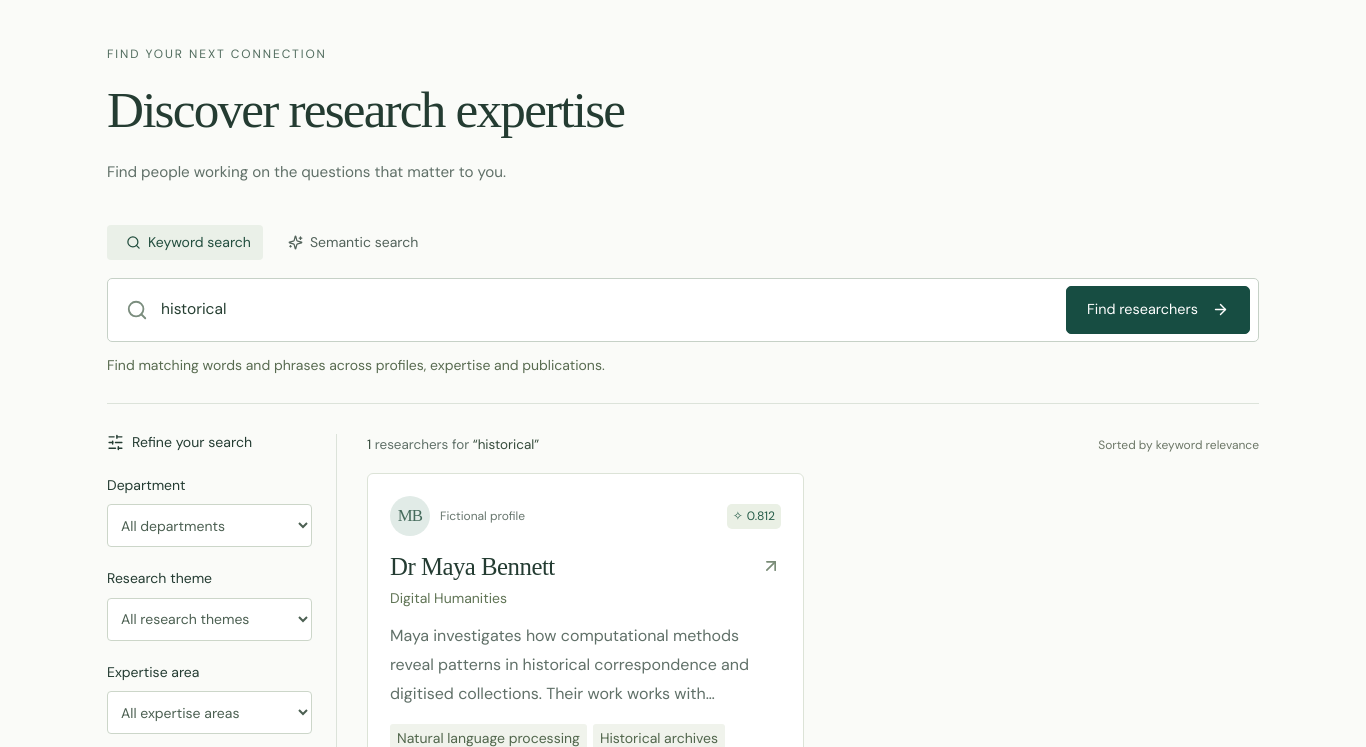
Test case: search discovery › keeps the query when switching to semantic search and explains scores
Click the radio button labelled "Semantic search".
click(353, 242)  # box [288,233,418,251]
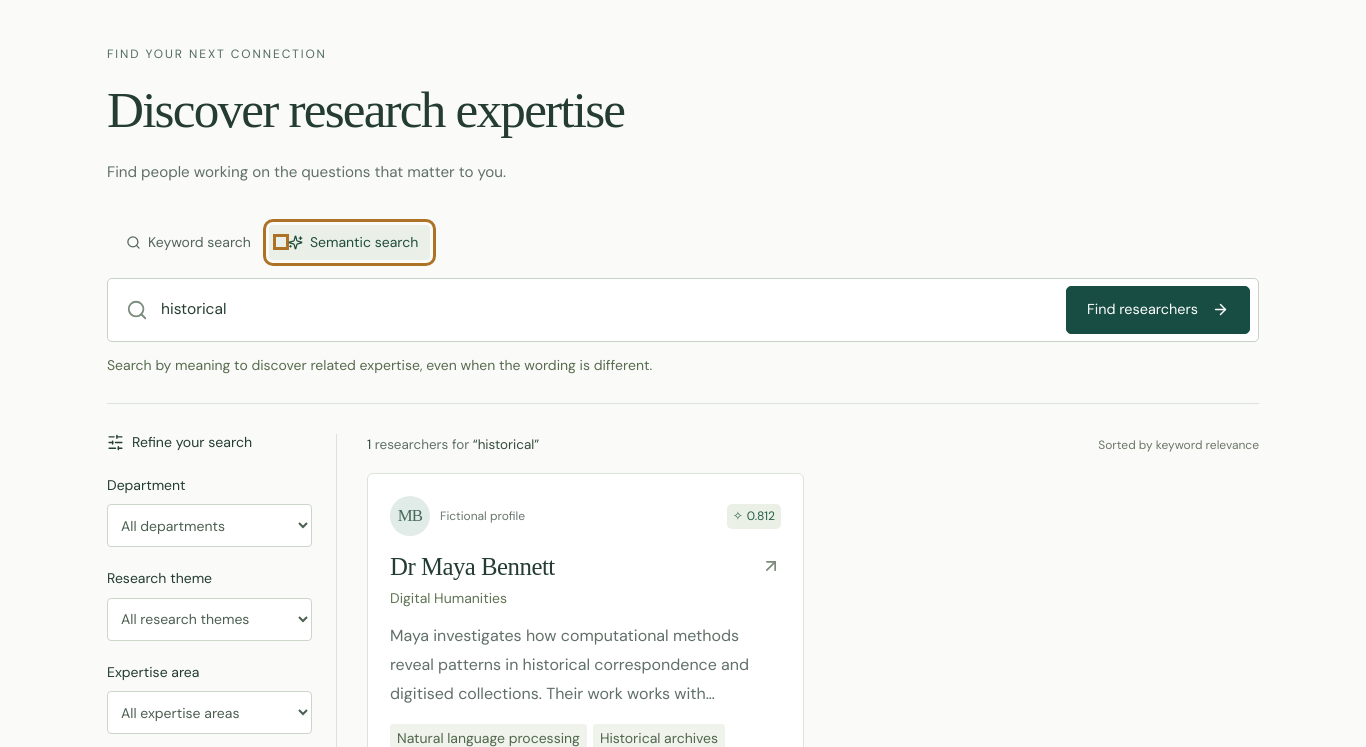
Click the button "Find researchers".
click(1158, 310)  # box [1066,286,1250,334]
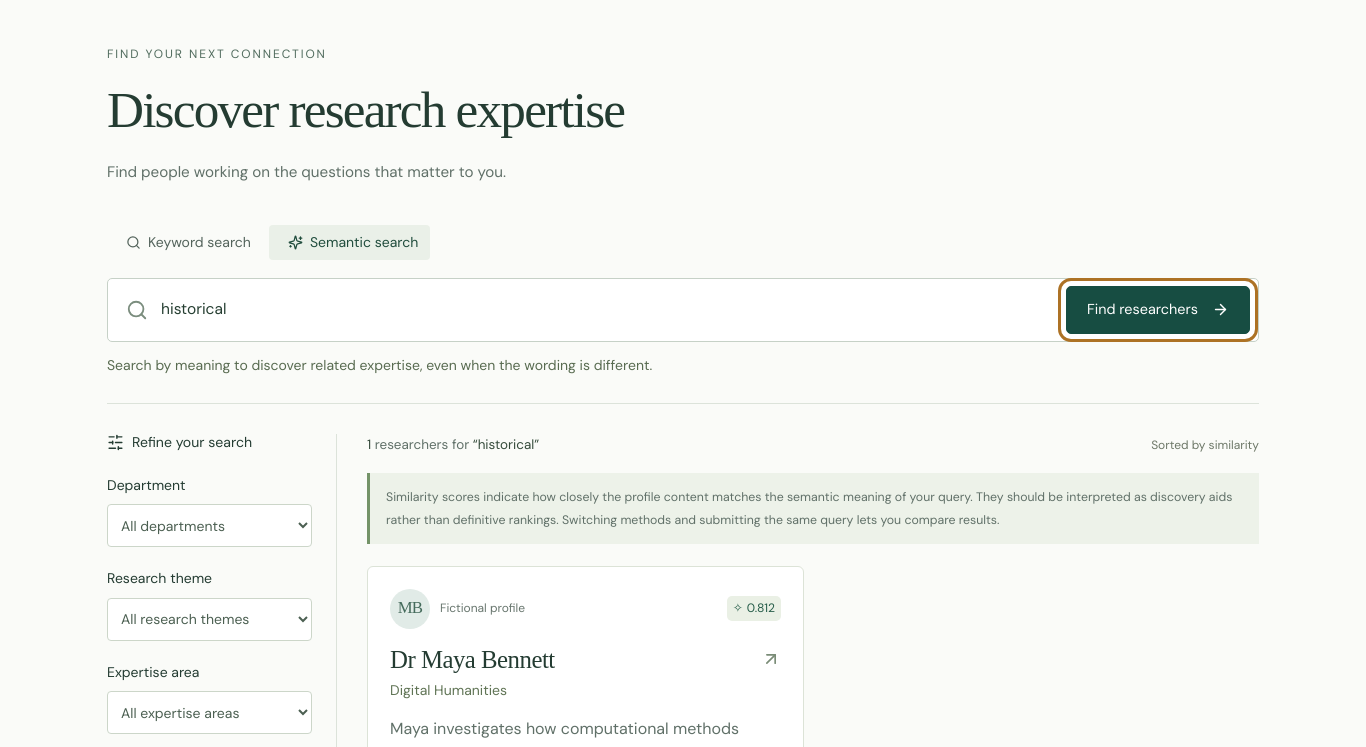
Expected: the text "0.812" is shown, [747,600,775,616]
Expected: the text "discovery aids rather than definitive rankings" is shown, [386,490,1232,528]
